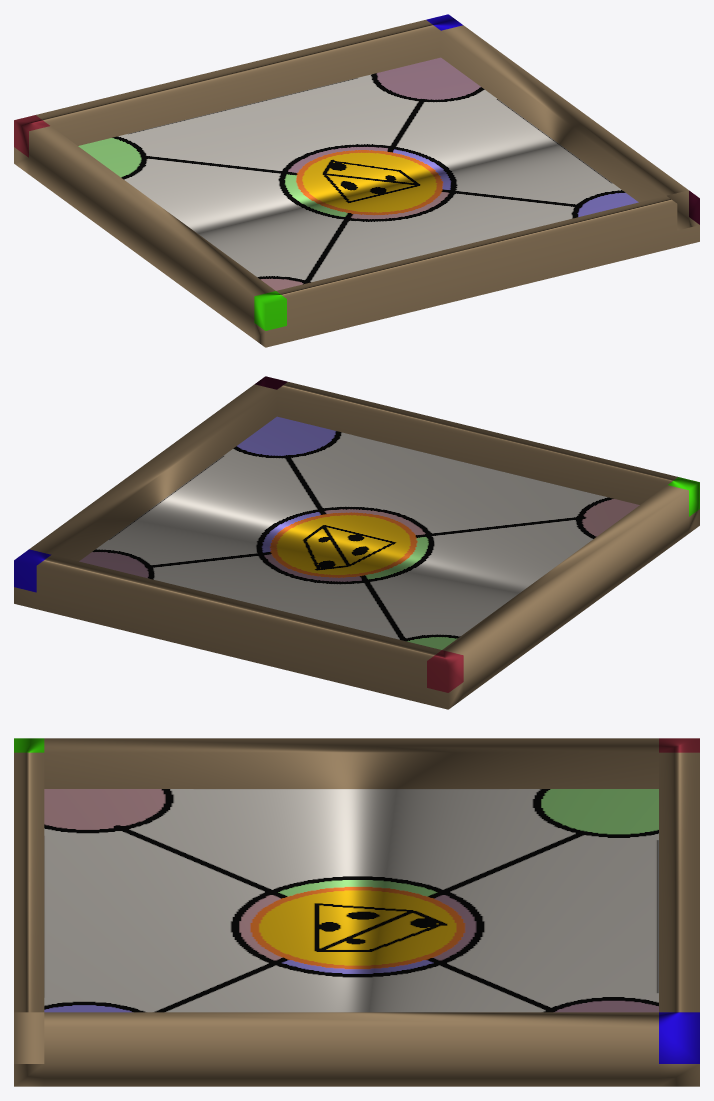
The model's file is Board5.fbx.
3 views of the same model, one above another, from view 1: azimuth 30°, elevation 25°; view 2: azimuth 150°, elevation 25°; view 3: azimuth 270°, elevation 25° (orthographic). The views are drawn at different scales.
Parts seen in each view (by area): view 1: Board; view 2: Board; view 3: Board.
Part boxes in pixels (<box>): Board: <box>14,14,699,347</box>; Board: <box>14,376,699,709</box>; Board: <box>14,738,699,1086</box>.
Bounding box in the file's own units: 2.3 × 0.2192 × 2.3.
